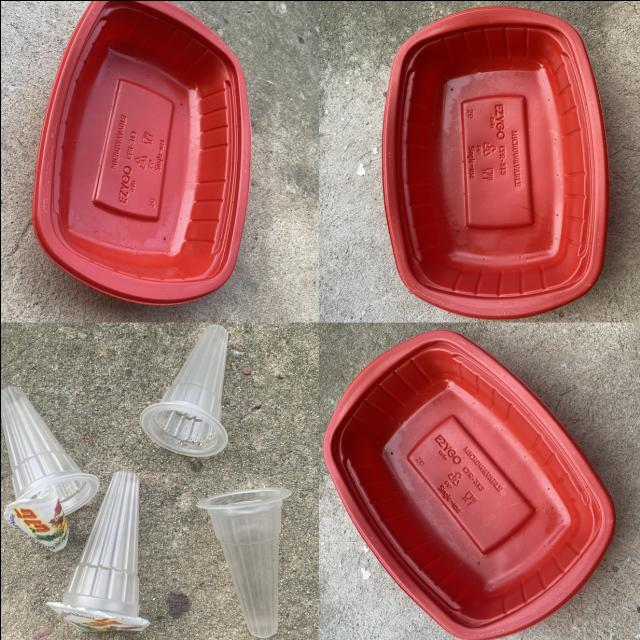plastik: (323, 329, 614, 640), (381, 6, 607, 318), (31, 0, 249, 303), (47, 469, 148, 630), (0, 386, 98, 550), (197, 488, 291, 636), (140, 324, 227, 454)
